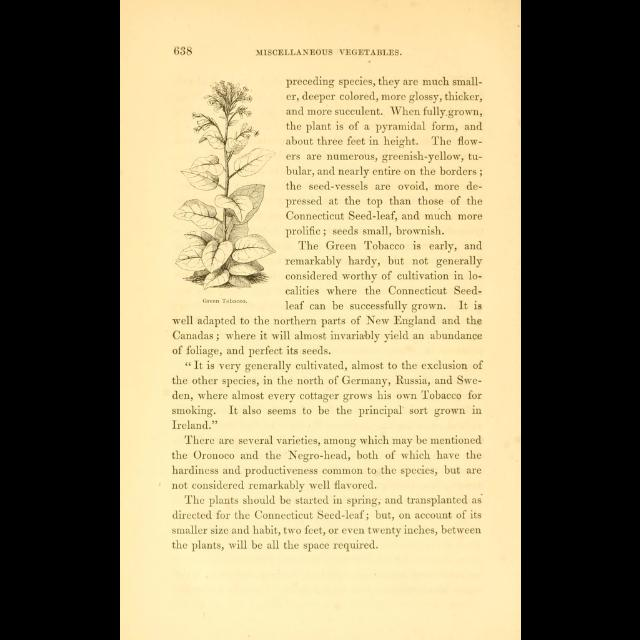Flower: (202, 81, 254, 121)
